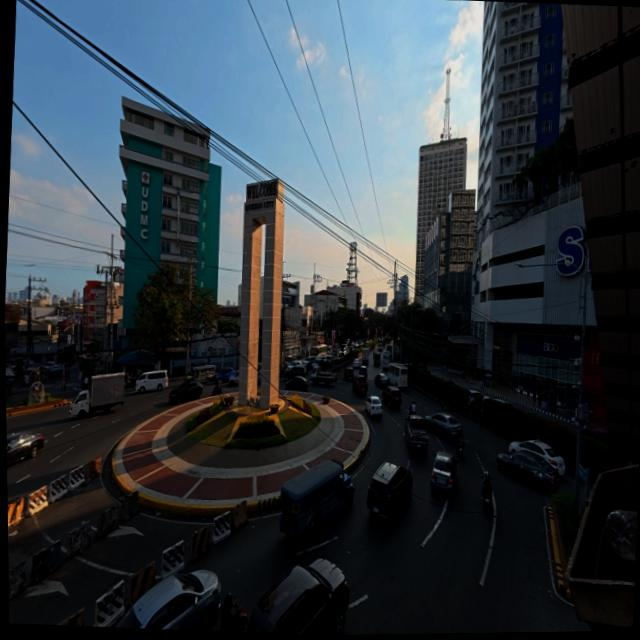car: (498, 436, 570, 495), (363, 460, 415, 524), (172, 377, 207, 403), (363, 396, 385, 419)
vans: (133, 369, 169, 394)
